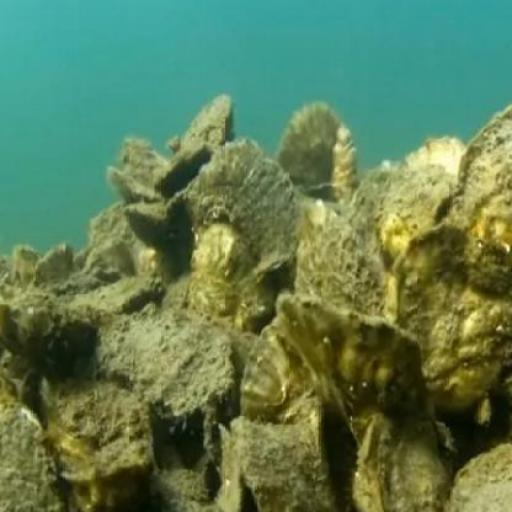Oyster-Closed: (284, 290, 448, 512), (386, 226, 512, 428), (188, 147, 302, 285), (243, 324, 315, 438), (458, 112, 512, 256), (275, 105, 349, 194)
